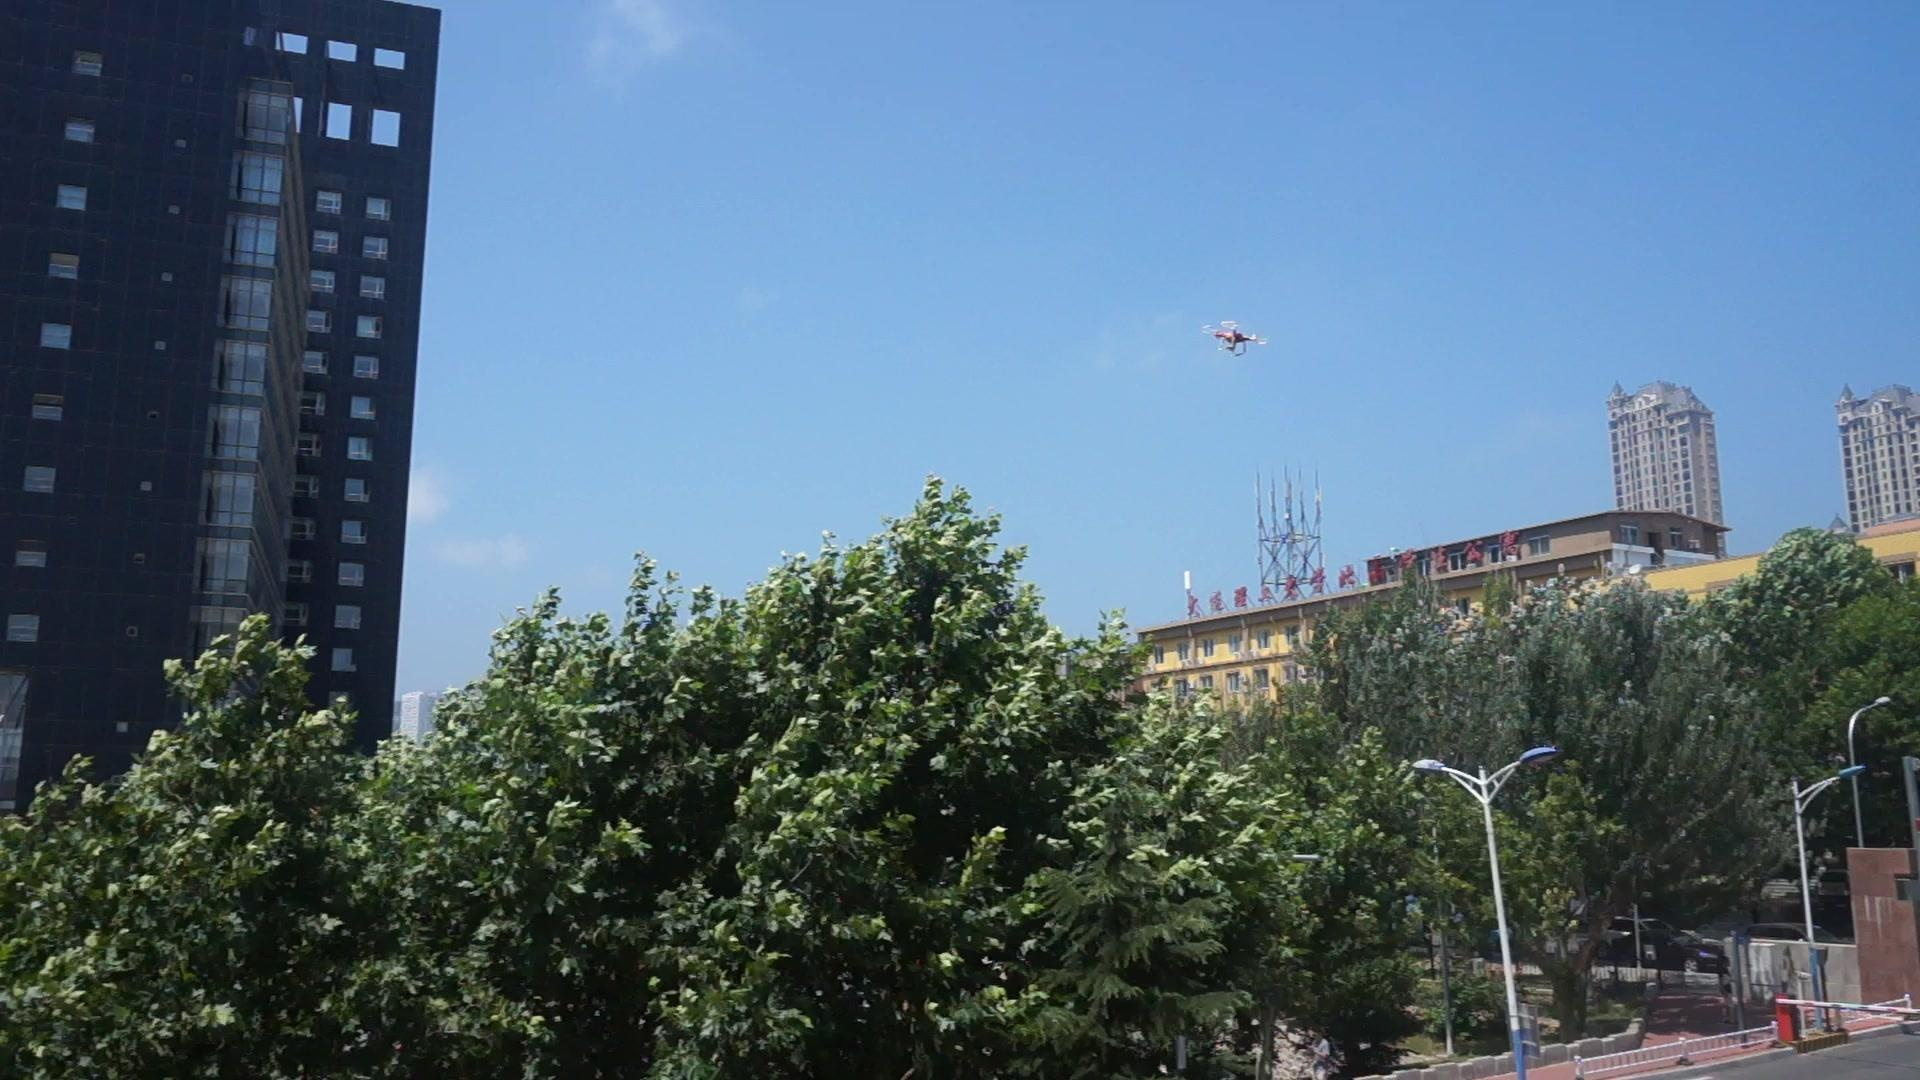UAV: (1203, 322, 1271, 357)
